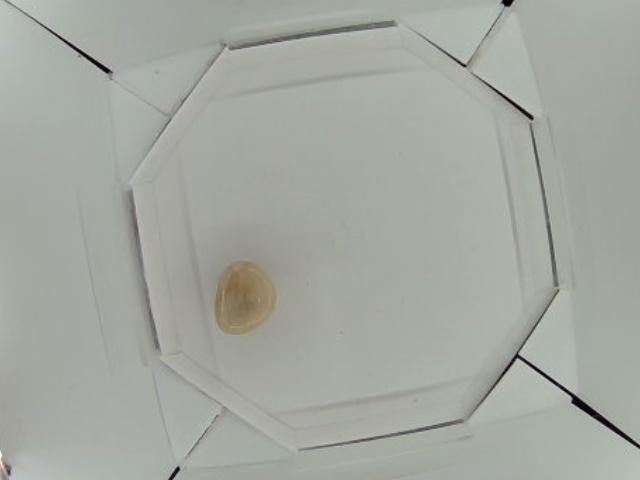Pebble: (215, 261, 275, 339)
